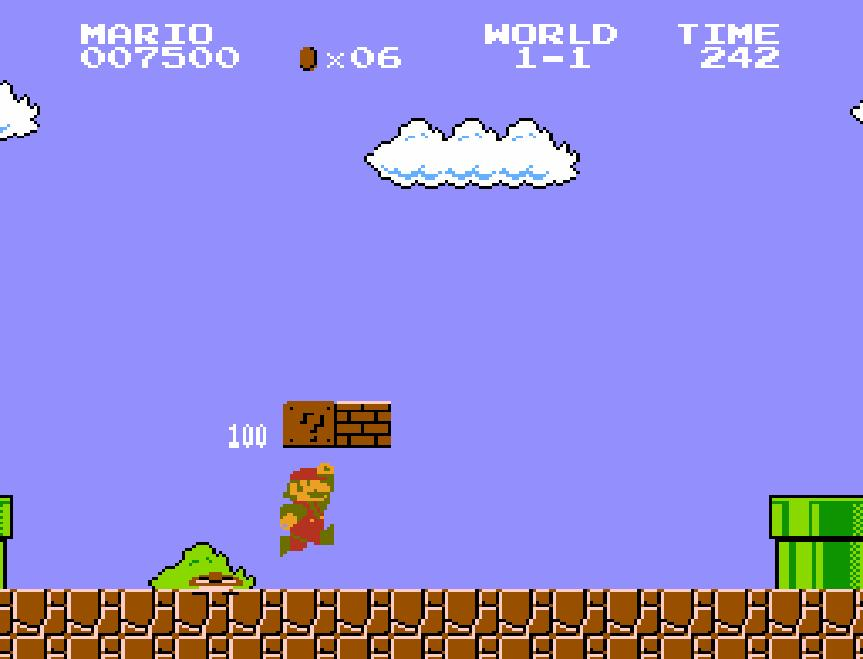big_mario: (278, 461, 336, 559)
